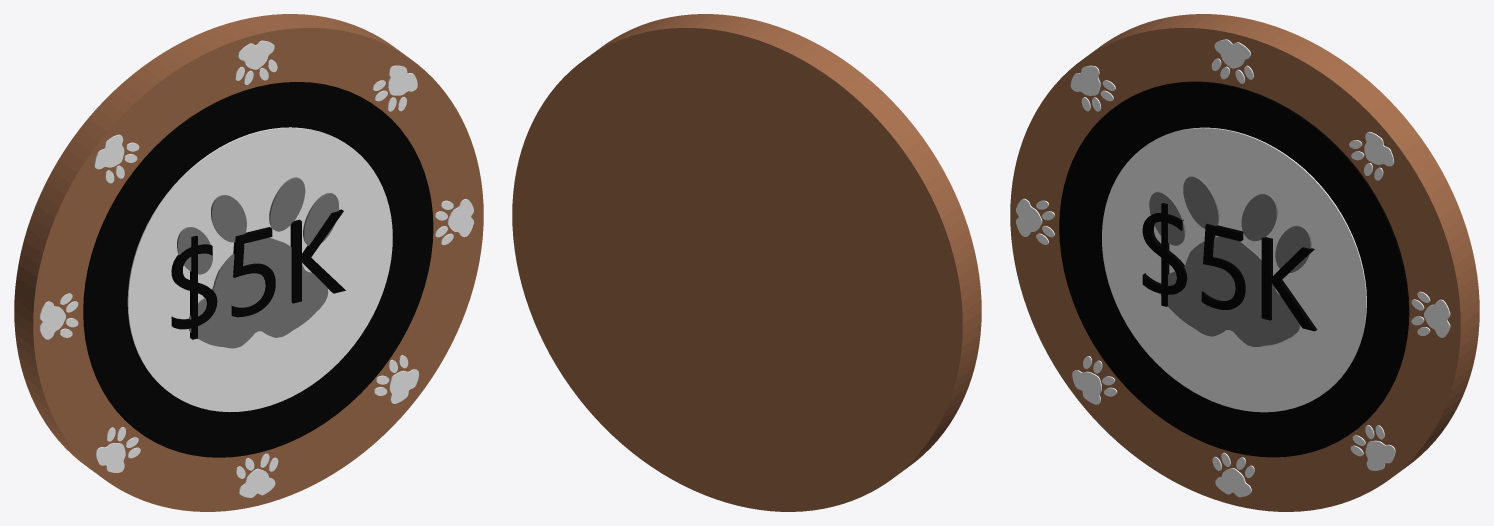
File: Brown paw chip.fbx
The picture shows the model from 3 angles, left to right: view 1: azimuth 30°, elevation 25°; view 2: azimuth 150°, elevation 25°; view 3: azimuth 330°, elevation 25°; orthographic projection.
Parts seen in each view (by area): view 1: root (×2), node_id4, node_id258, node_id385, node_id260, node_id215, node_id220, node_id242, node_id161, node_id192, node_id226, node_id231 (+1 smaller); view 2: node_id4; view 3: root (×2), node_id4, node_id258, node_id385, node_id260, node_id226, node_id231, node_id220, node_id215, node_id192, node_id237, node_id161 (+1 smaller).
Part boxes in pixels (bbox=[...]): root (×2): bbox=[83, 82, 433, 457]; node_id4: bbox=[14, 14, 483, 511]; node_id258: bbox=[188, 237, 328, 348]; node_id385: bbox=[171, 209, 345, 339]; node_id260: bbox=[177, 177, 338, 274]; node_id215: bbox=[94, 134, 124, 169]; node_id220: bbox=[389, 369, 419, 403]; node_id242: bbox=[39, 301, 65, 339]; node_id161: bbox=[239, 468, 275, 497]; node_id192: bbox=[238, 40, 274, 69]; node_id226: bbox=[388, 65, 417, 95]; node_id231: bbox=[95, 443, 125, 472]; node_id4: bbox=[512, 14, 981, 511]; root (×2): bbox=[1059, 81, 1409, 457]; node_id4: bbox=[1010, 14, 1479, 511]; node_id258: bbox=[1160, 236, 1300, 346]; node_id385: bbox=[1142, 203, 1317, 331]; node_id260: bbox=[1149, 176, 1311, 272]; node_id226: bbox=[1364, 131, 1394, 166]; node_id231: bbox=[1072, 370, 1101, 404]; node_id220: bbox=[1365, 440, 1395, 470]; node_id215: bbox=[1070, 65, 1100, 95]; node_id192: bbox=[1214, 39, 1250, 68]; node_id237: bbox=[1424, 299, 1450, 337]; node_id161: bbox=[1215, 468, 1251, 497].
Bounding box in the file's own units: 0.5155 × 0.5155 × 0.0458.
Materials: 8 (5 with a texture image).
